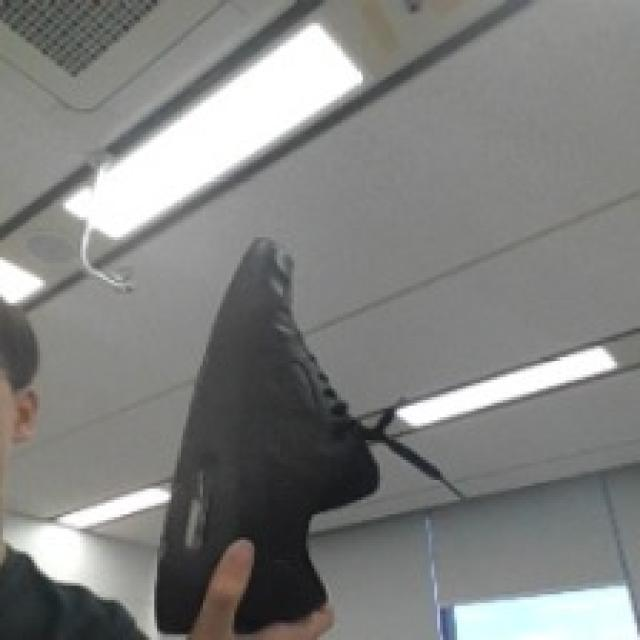shoe: (119, 229, 456, 640)
